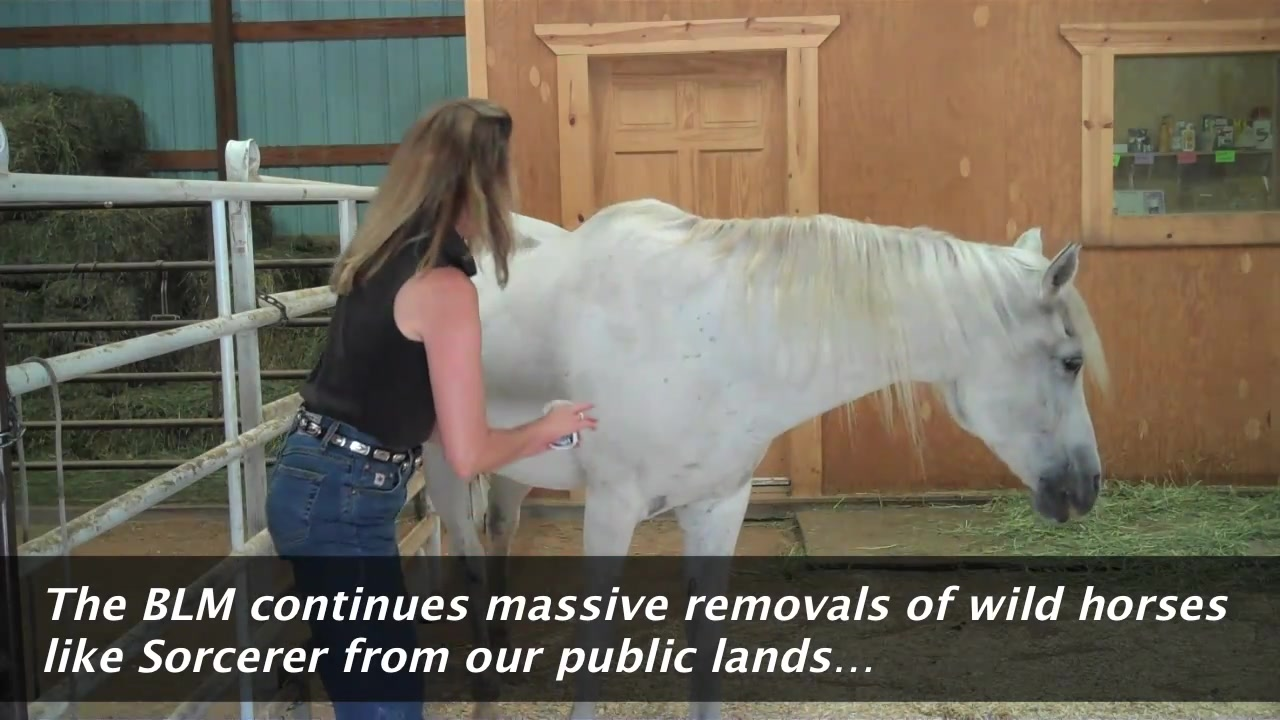horse: (420, 200, 1110, 719)
